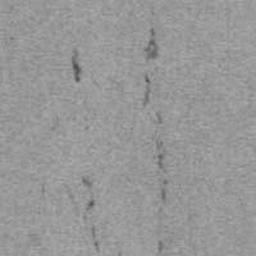Inclusion: (141, 27, 159, 64), (72, 47, 83, 83), (141, 74, 152, 109), (154, 138, 166, 169), (90, 227, 101, 255), (81, 174, 96, 187), (161, 177, 169, 200), (83, 200, 96, 211), (155, 110, 164, 125), (156, 241, 164, 253)
